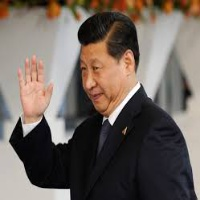ring: (24, 56, 31, 88)
